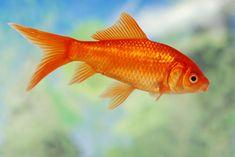goldfish: (33, 19, 212, 121)
